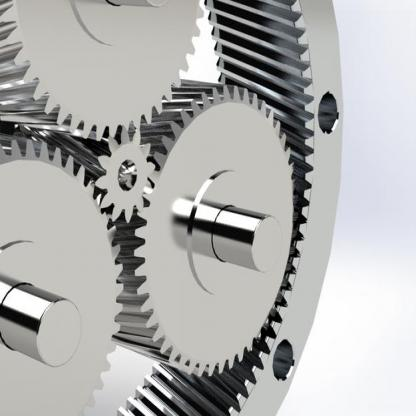FOD: (109, 0, 346, 415), (87, 82, 298, 376), (0, 132, 124, 415), (93, 128, 158, 226)
